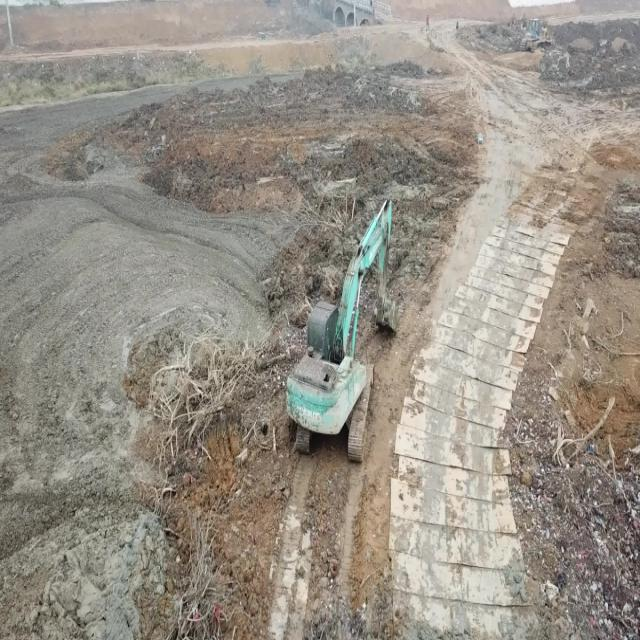excavator: (286, 196, 397, 461)
machinery: (520, 18, 555, 52)
